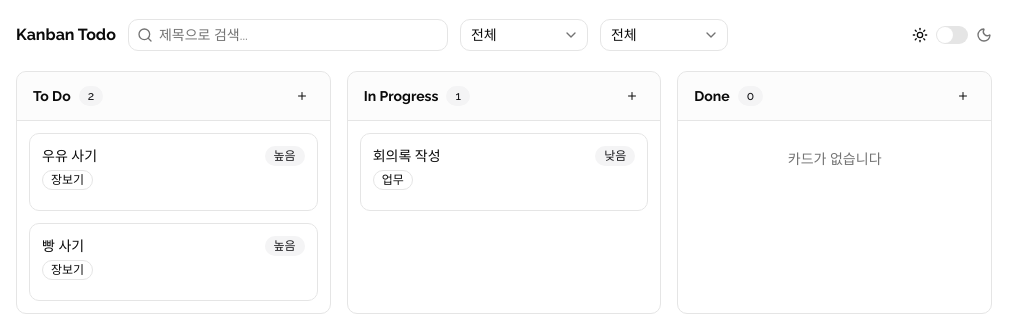
Test: KANBAN-007: 우선순위·태그 필터 › example 1: 우선순위 '높음' 필터 → 높음만 표시
Click the dropdown named "우선순위" at (524, 35), box [460,19,588,51]
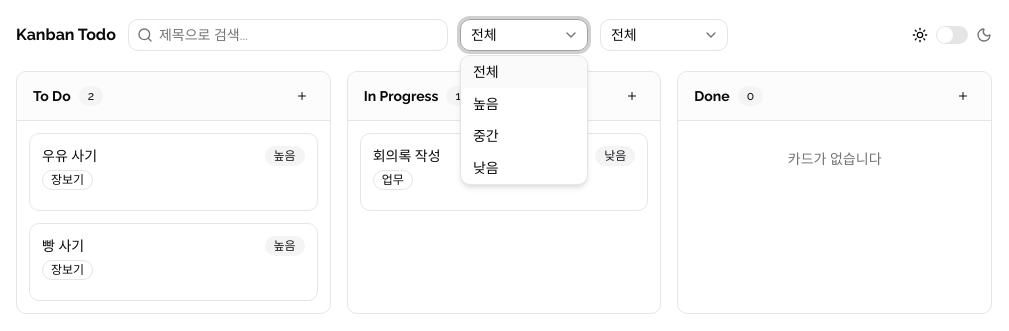
Click the option "높음" at (486, 104), box [473,96,499,112]
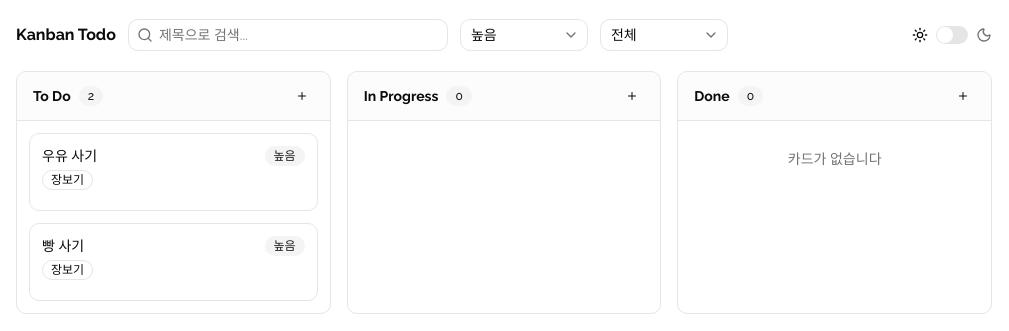
Check: the text "우유 사기" is shown, box [42,146,97,166]
Check: the text "회의록 작성" is gone
